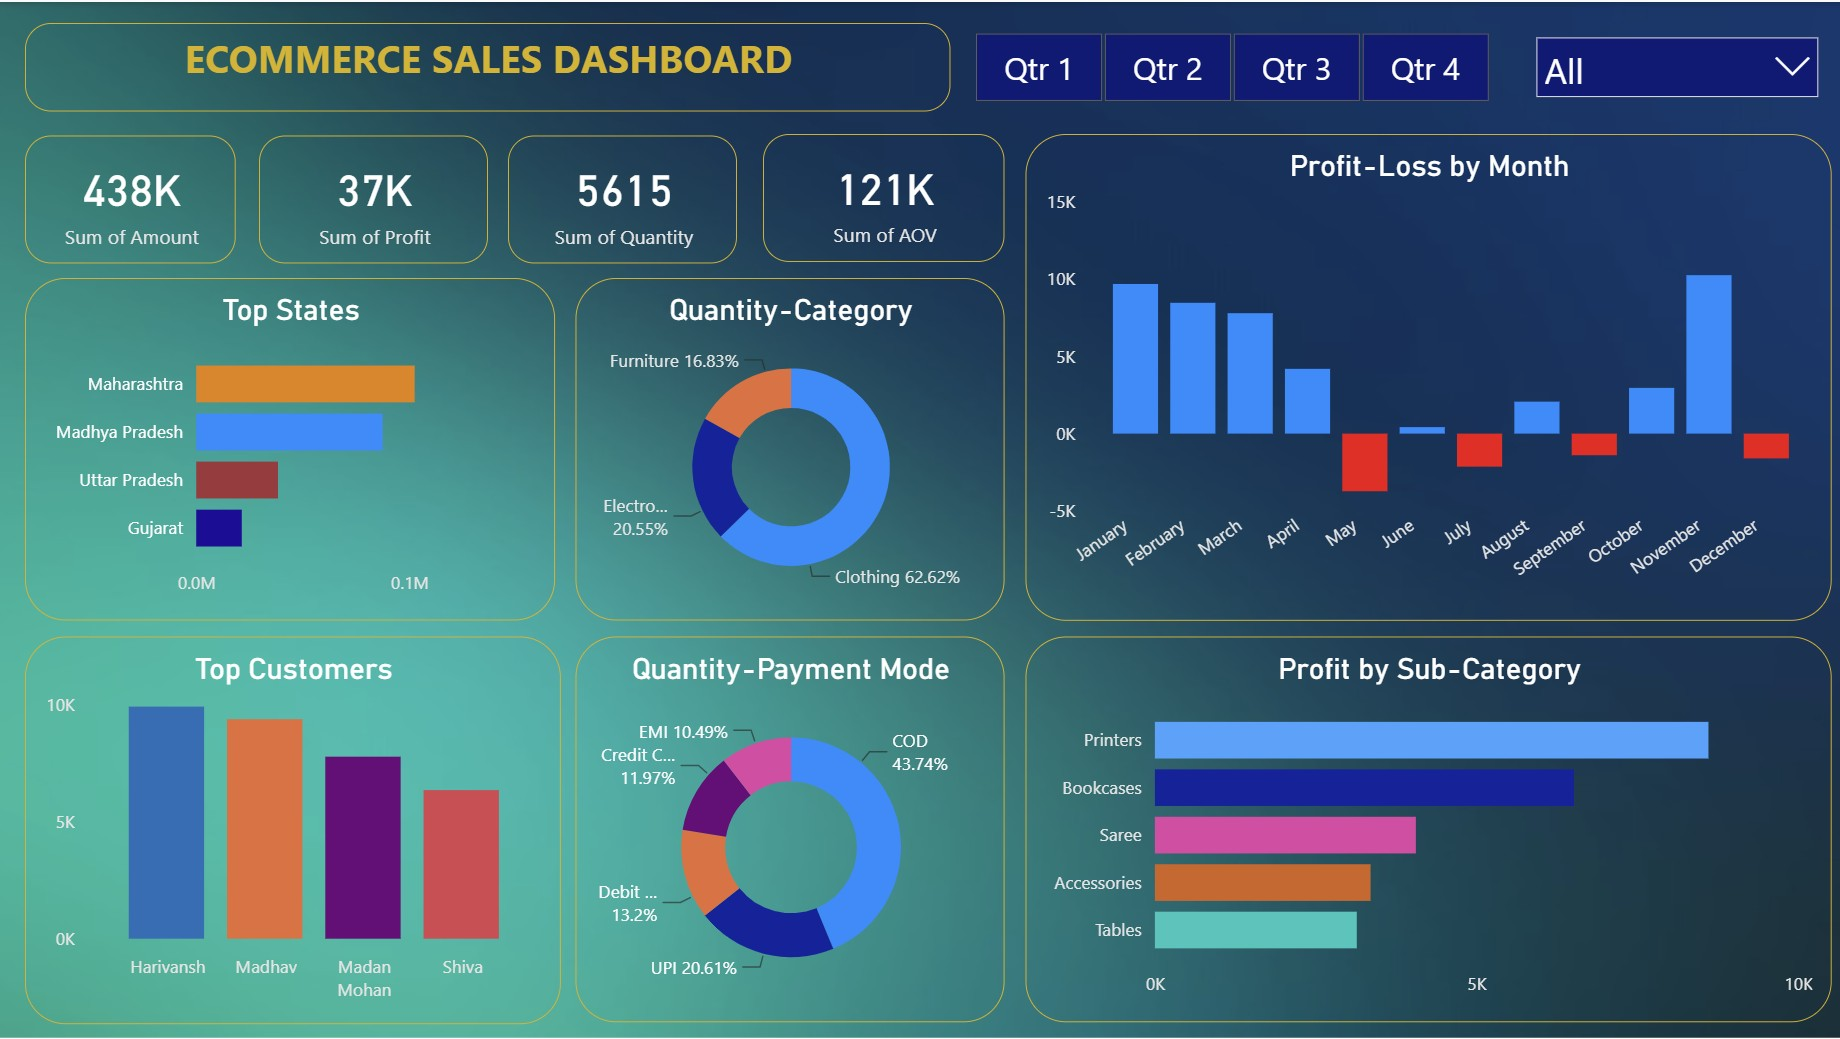

The page's visual inventory and layout, read from the dashboard file:
{"tool":"powerbi","page":{"name":"Page 1","canvas":[1280,720],"ordinal":0},"visuals":[{"type":"clusteredColumnChart","title":"Profit-Loss by Month","fields":{"Category":["Orders.Order Date.Variation.Date Hierarchy.Month"],"Y":["Sum(Details.Profit)"]},"box":[712.5,91.2,558.8,337.5],"z":0},{"type":"textbox","box":[18.8,15,641.2,61.2],"z":1000},{"type":"clusteredBarChart","title":"Profit by Sub-Category","fields":{"Category":["Details.Sub-Category"],"Y":["Sum(Details.Profit)"]},"box":[712.5,440,558.8,267.5],"z":2000},{"type":"donutChart","title":"Quantity-Category","fields":{"Category":["Details.Category"],"Y":["Sum(Details.Quantity)"]},"box":[400,191.2,297.5,237.5],"z":3000},{"type":"donutChart","title":"Quantity-Payment Mode","fields":{"Category":["Details.PaymentMode"],"Y":["Sum(Details.Quantity)"]},"box":[400,440,297.5,267.5],"z":4000},{"type":"clusteredBarChart","title":"Top States","fields":{"Category":["Orders.State"],"Y":["Sum(Details.Amount)"]},"box":[18.8,191.2,367.5,237.5],"z":5000},{"type":"clusteredColumnChart","title":"Top Customers","fields":{"Category":["Orders.CustomerName"],"Y":["Sum(Details.Amount)"]},"box":[18.8,440,371.2,268.8],"z":6000},{"type":"card","fields":{"Values":["Sum(Details.Amount)"]},"box":[18.8,92.5,146.2,88.8],"z":7000},{"type":"card","fields":{"Values":["Sum(Details.Profit)"]},"box":[181.2,92.5,158.8,88.8],"z":8000},{"type":"card","fields":{"Values":["Sum(Details.Quantity)"]},"box":[353.8,92.5,158.8,88.8],"z":9000},{"type":"card","fields":{"Values":["Sum(Details.AOV)"]},"box":[530,91.2,167.5,88.8],"z":10000},{"type":"slicer","fields":{"Values":["Orders.Order Date.Variation.Date Hierarchy.Quarter"]},"box":[651.2,15,405,61.2],"z":11000},{"type":"slicer","fields":{"Values":["Orders.State"]},"box":[1056.2,15,215,61.2],"z":12000}]}

Visuals, with their boxes in screenshot pixels (x1, y1, x2, y2), scaled from the page's 1280x720 canvas onto the 1840x1039 screenshot:
"Profit-Loss by Month" clusteredColumnChart: 1024:132:1827:619
textbox: 27:22:949:110
"Profit by Sub-Category" clusteredBarChart: 1024:635:1827:1021
"Quantity-Category" donutChart: 575:276:1003:619
"Quantity-Payment Mode" donutChart: 575:635:1003:1021
"Top States" clusteredBarChart: 27:276:555:619
"Top Customers" clusteredColumnChart: 27:635:561:1023
card - Sum(Details.Amount): 27:133:237:262
card - Sum(Details.Profit): 260:133:489:262
card - Sum(Details.Quantity): 509:133:737:262
card - Sum(Details.AOV): 762:132:1003:260
slicer - Orders.Order Date.Variation.Date Hierarchy.Quarter: 936:22:1518:110
slicer - Orders.State: 1518:22:1827:110
